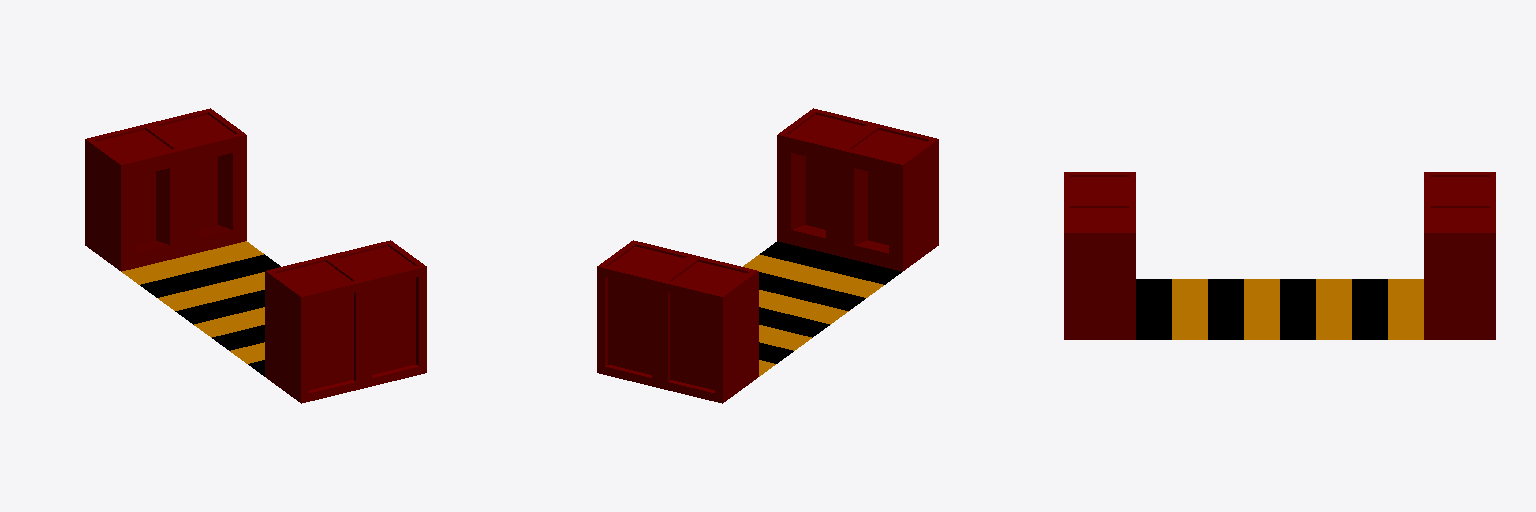
The model's file is planchas_body.obj.
The picture shows the model from 3 angles: view 1: azimuth 30°, elevation 25°; view 2: azimuth 150°, elevation 25°; view 3: azimuth 270°, elevation 25°; orthographic projection.
Visible parts, largest first — view 1: Plane; view 2: Plane; view 3: Plane.
Part boxes in pixels (x1,y1,x2,y2): Plane: (85,108,426,403); Plane: (597,108,938,403); Plane: (1064,172,1495,339).
Bounding box in the file's own units: 2 × 1.62 × 5.97.